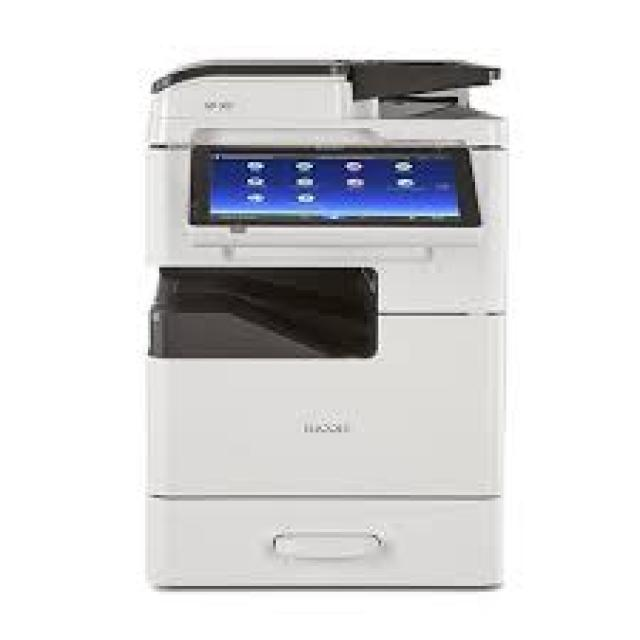printer: (140, 54, 510, 589)
